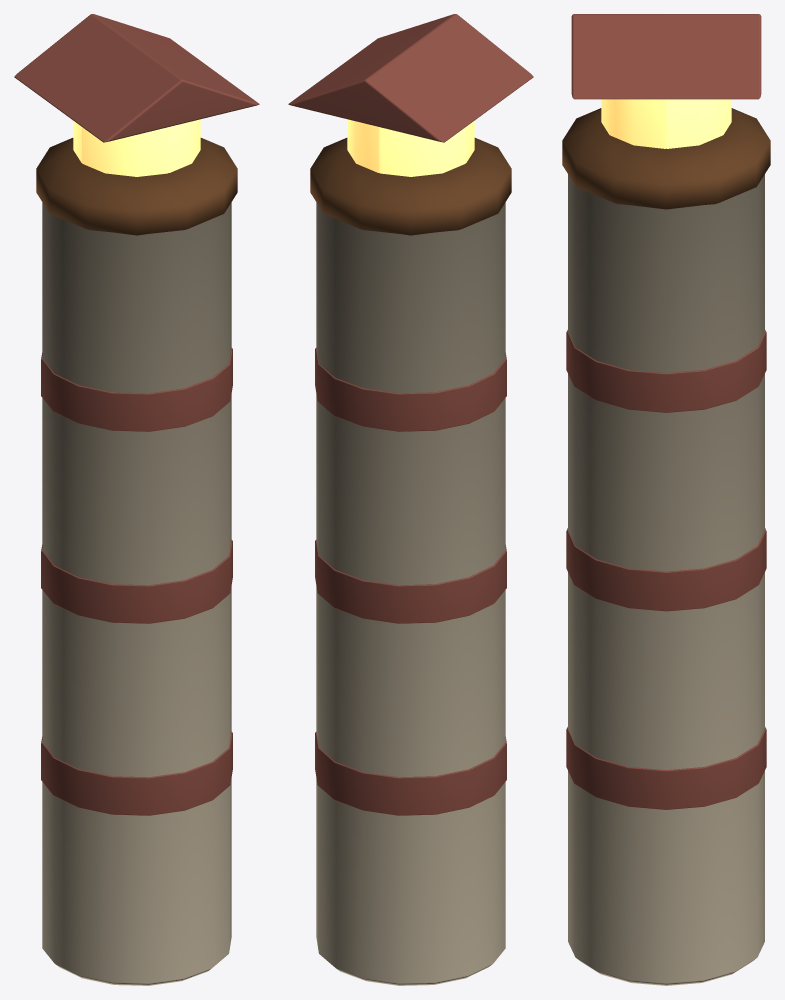
Rendered from lighthouse.glb.
3 renders of one model, left to right at view 1: azimuth 30°, elevation 25°; view 2: azimuth 150°, elevation 25°; view 3: azimuth 270°, elevation 25°, orthographic. The views are drawn at different scales.
Visible parts, largest first — view 1: lighthouse; view 2: lighthouse; view 3: lighthouse.
Part boxes in pixels (left/top/right/bottom): lighthouse: left=14, top=14, right=259, bottom=985; lighthouse: left=288, top=14, right=533, bottom=985; lighthouse: left=562, top=14, right=770, bottom=985.
Bounding box in the file's own units: 2.85 × 14.09 × 2.85.
